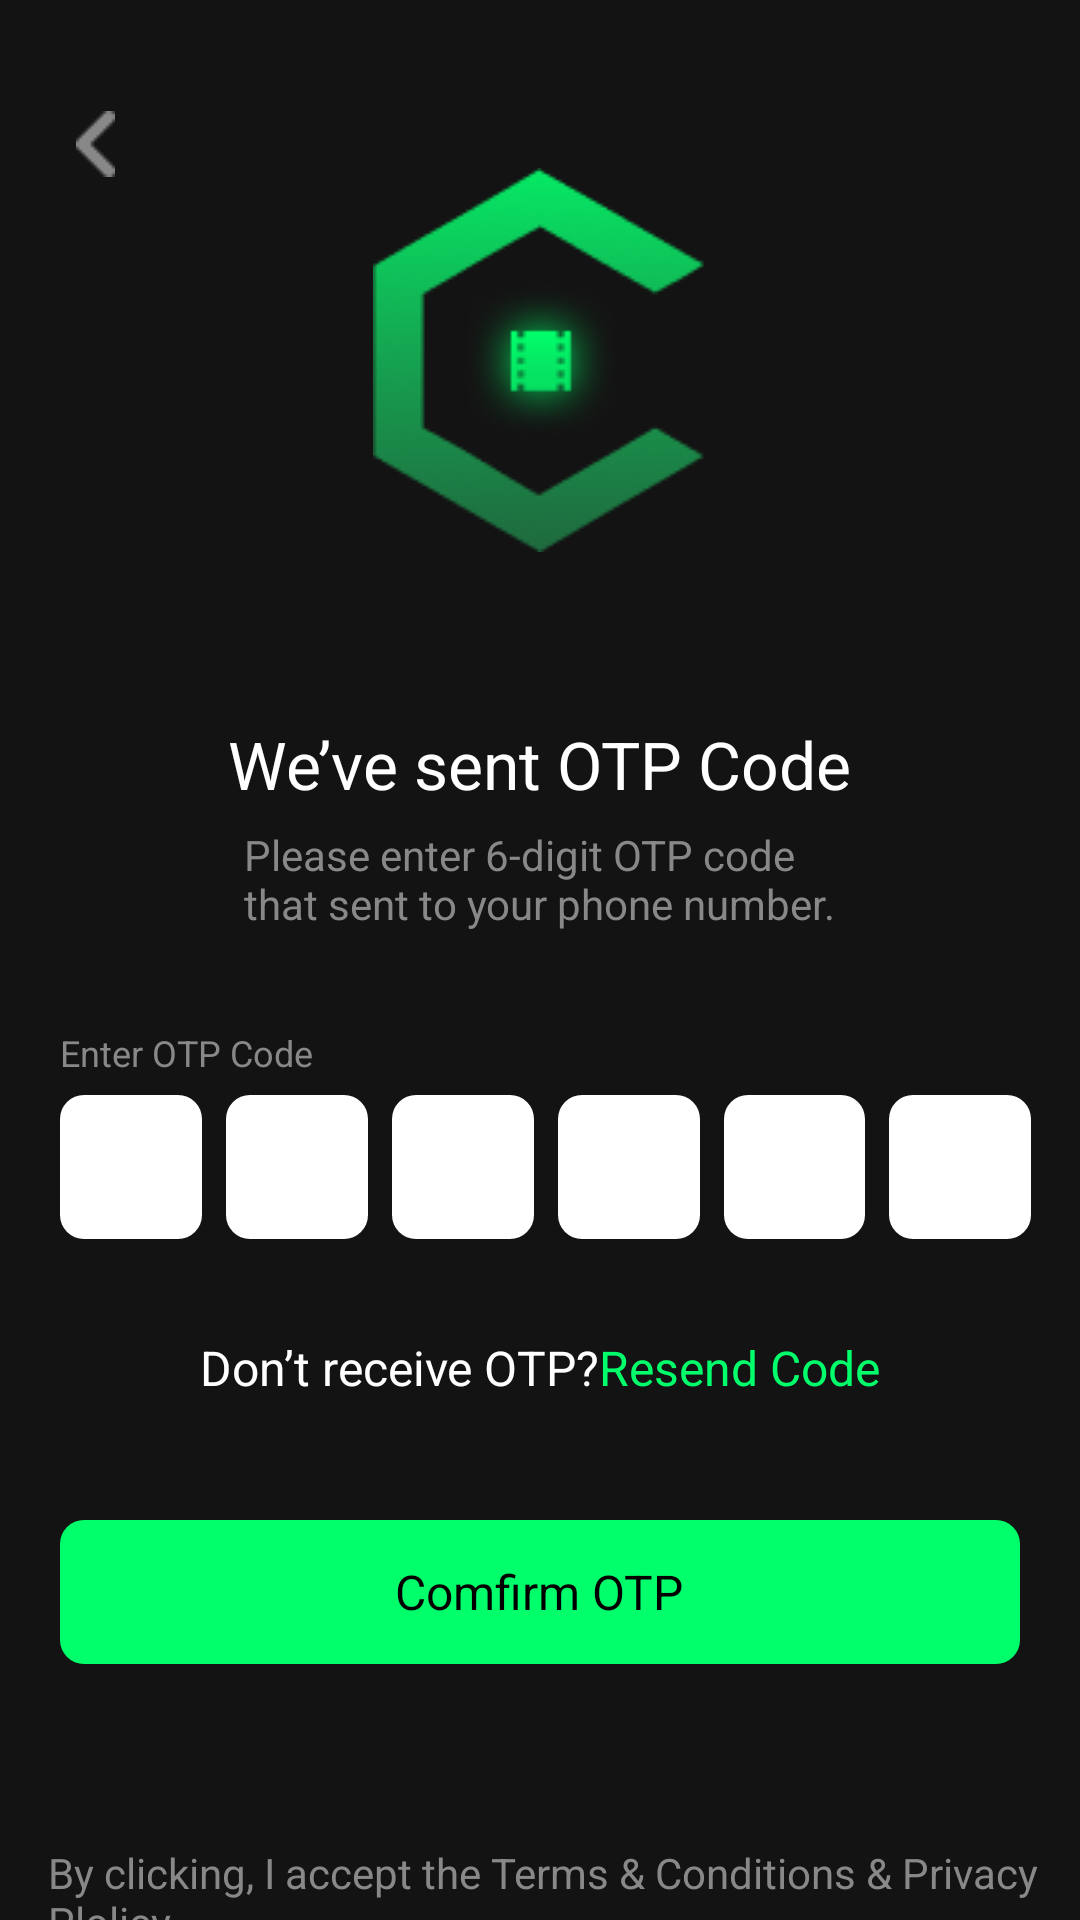

Named icons in this screenshot (1080w x 1920h) and their bounding boxes, (x1, y1, x2, y2):
backbtn: (76, 111, 115, 177)
